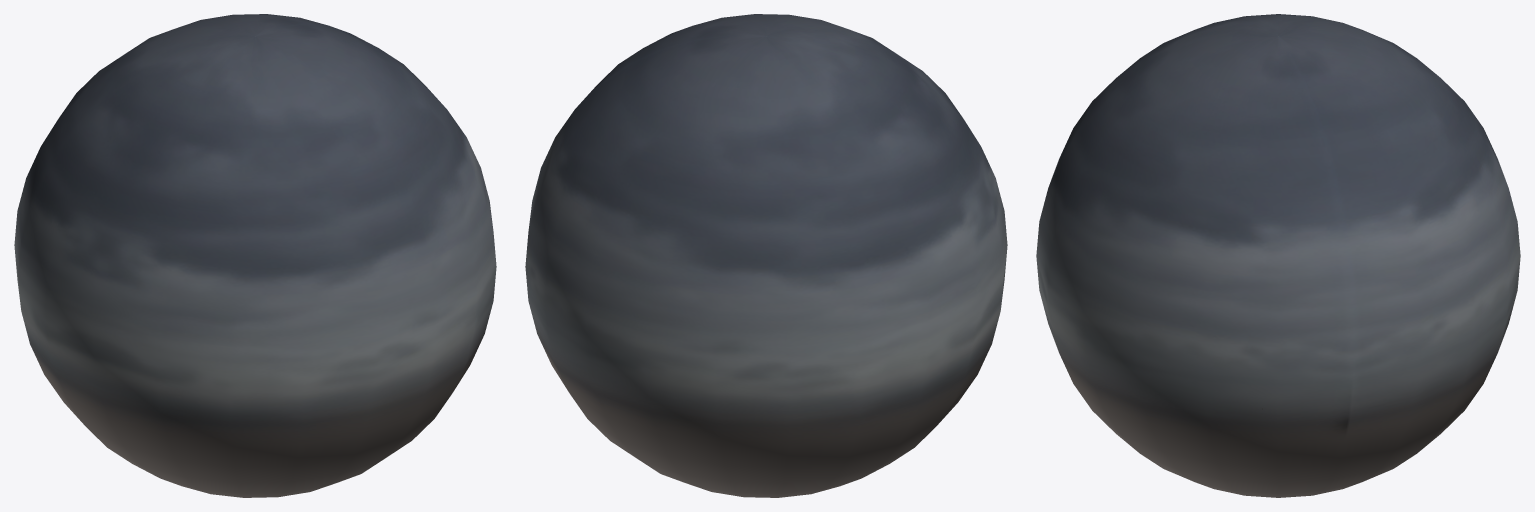
Rendered from OllivanderShop.fbx.
3 views of the same model, side by side, from view 1: azimuth 30°, elevation 25°; view 2: azimuth 150°, elevation 25°; view 3: azimuth 270°, elevation 25° (orthographic).
Visible parts, largest first — view 1: Sky_0; view 2: Sky_0; view 3: Sky_0.
Part boxes in pixels (bbox=[...]): Sky_0: bbox=[14, 14, 496, 497]; Sky_0: bbox=[525, 14, 1007, 497]; Sky_0: bbox=[1036, 14, 1520, 497].
Bounding box in the file's own units: 38.29 × 38.29 × 38.29.
Materials: 14 (14 with a texture image).
